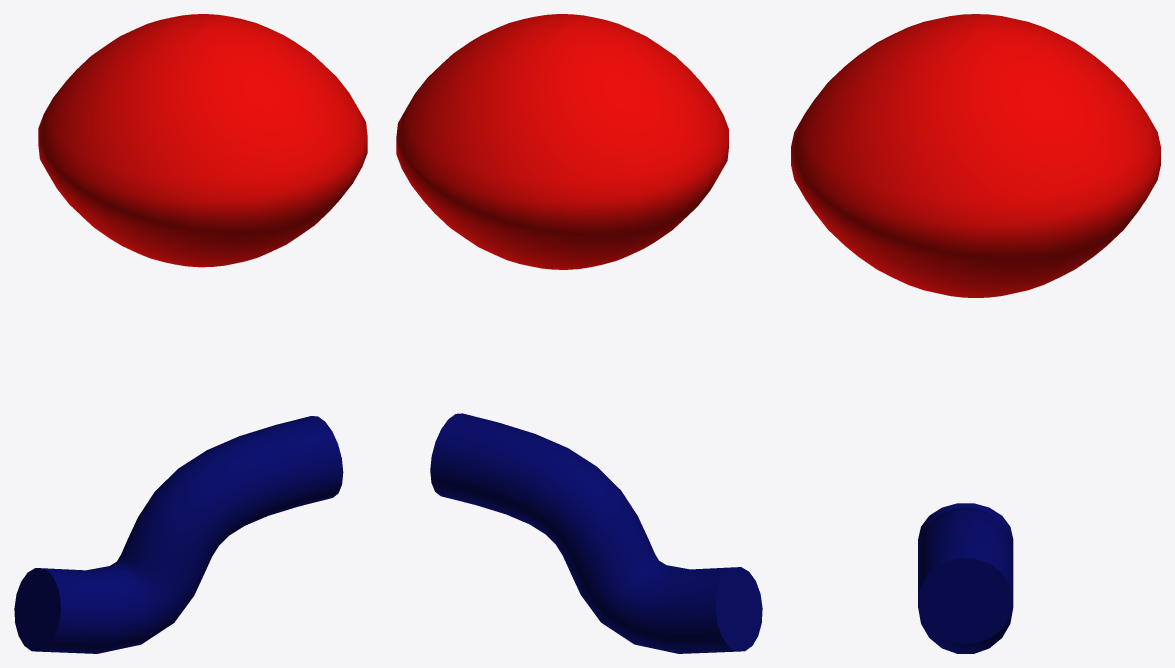
The model's file is alientree.fbx.
3 renders of one model, left to right at view 1: azimuth 30°, elevation 25°; view 2: azimuth 150°, elevation 25°; view 3: azimuth 270°, elevation 25°, orthographic. The views are drawn at different scales.
Parts seen in each view (by area): view 1: SurfSphere, NurbsPath; view 2: SurfSphere, NurbsPath; view 3: SurfSphere, NurbsPath.
Boxes of the visible parts, x1,y1,x2,y2 form: SurfSphere: [38, 14, 367, 267]; NurbsPath: [14, 416, 343, 653]; SurfSphere: [396, 14, 728, 269]; NurbsPath: [430, 413, 762, 653]; SurfSphere: [791, 14, 1160, 297]; NurbsPath: [918, 503, 1013, 653].
Bounding box in the file's own units: 298 × 524 × 264.
